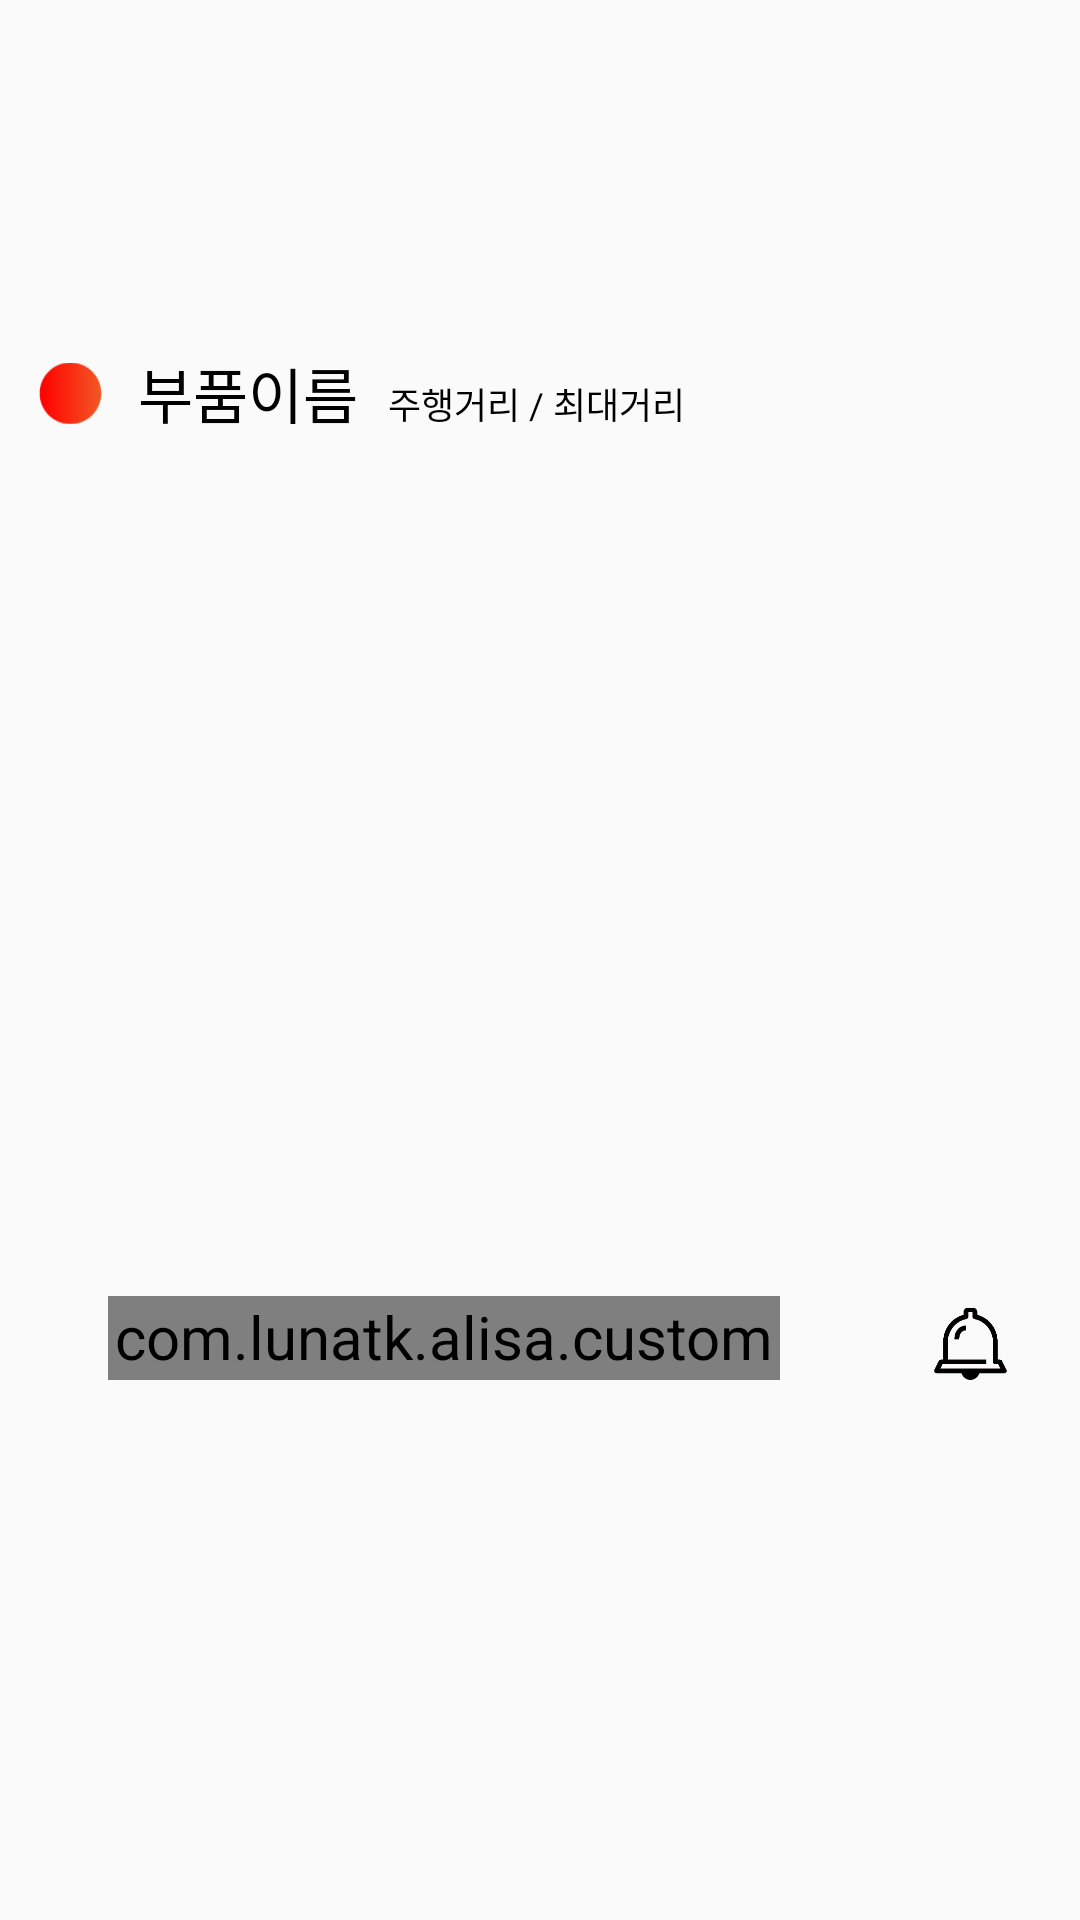

Icon bounding boxes for this 1080*1920 phone screenshot, format bbox=[x1, y1, x2, y2]:
bell: bbox=[934, 1308, 1007, 1380]
